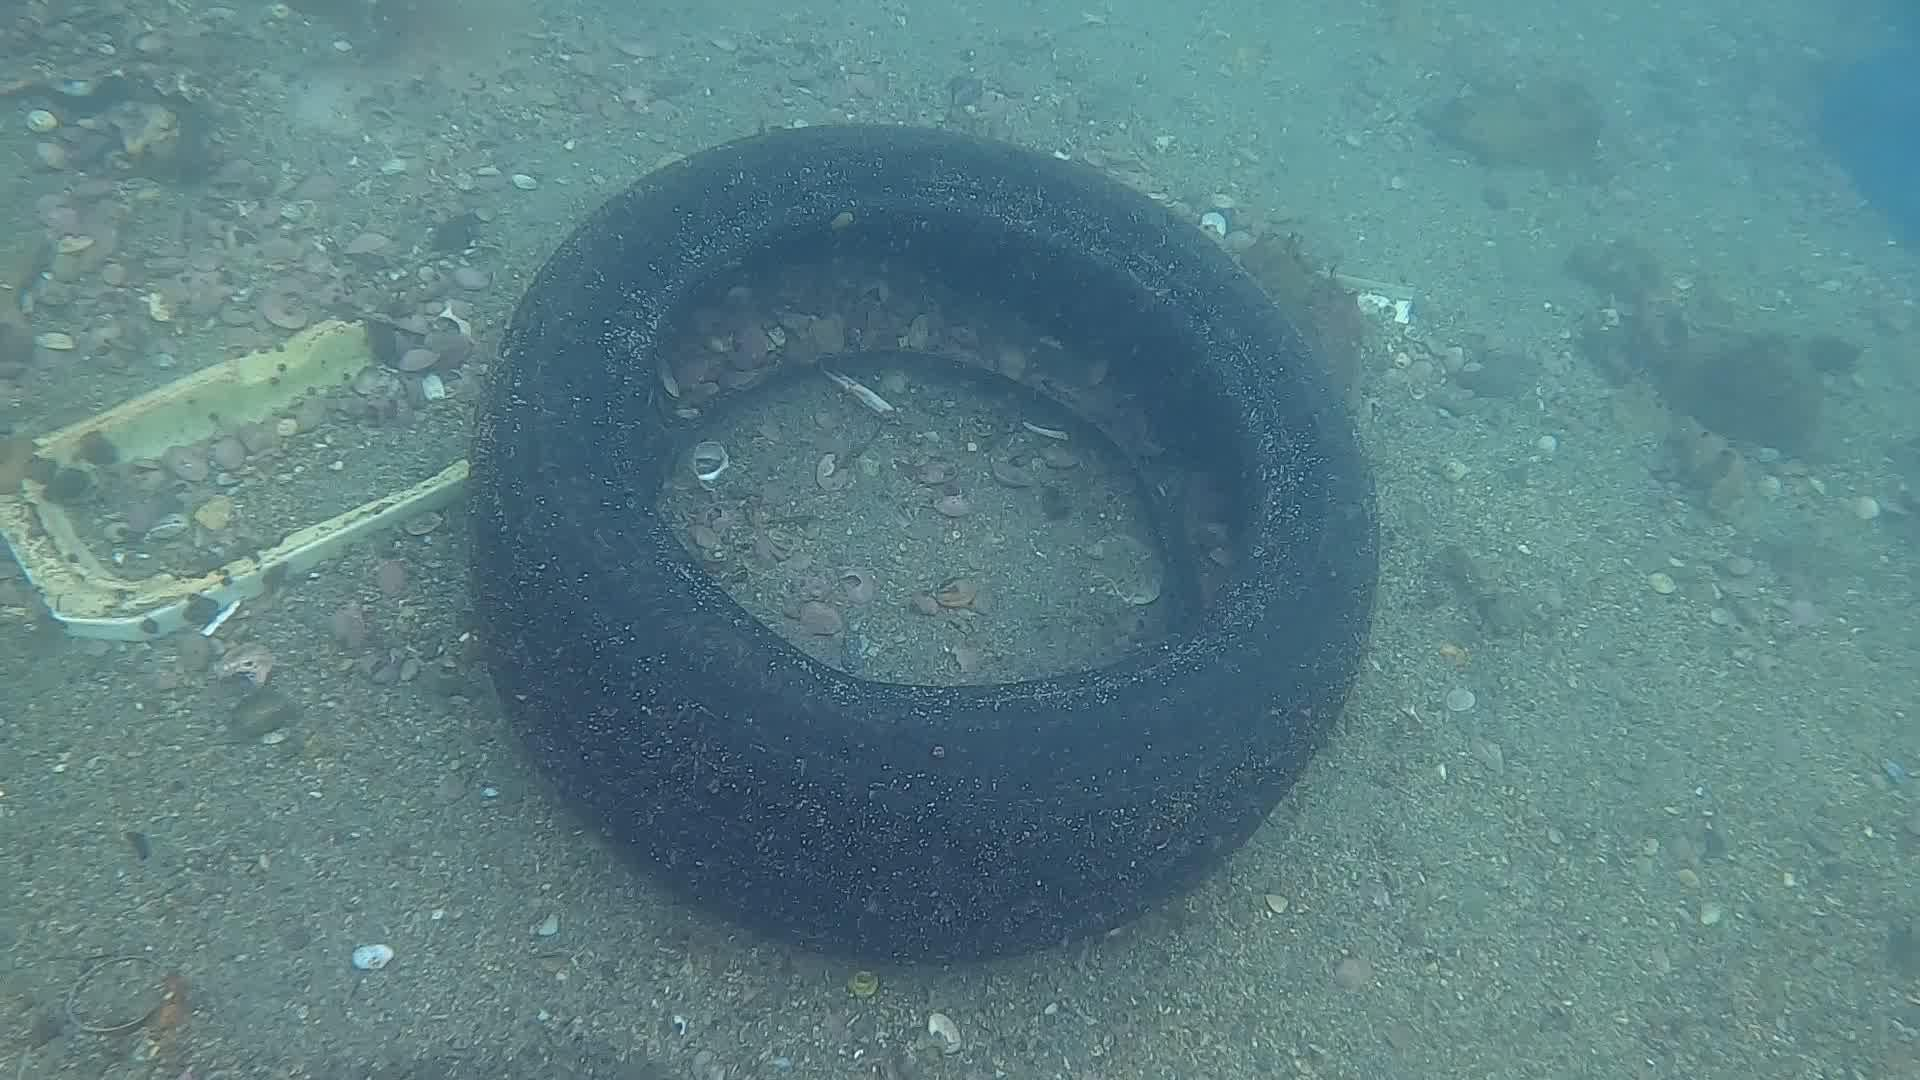tire: (476, 123, 1379, 953)
